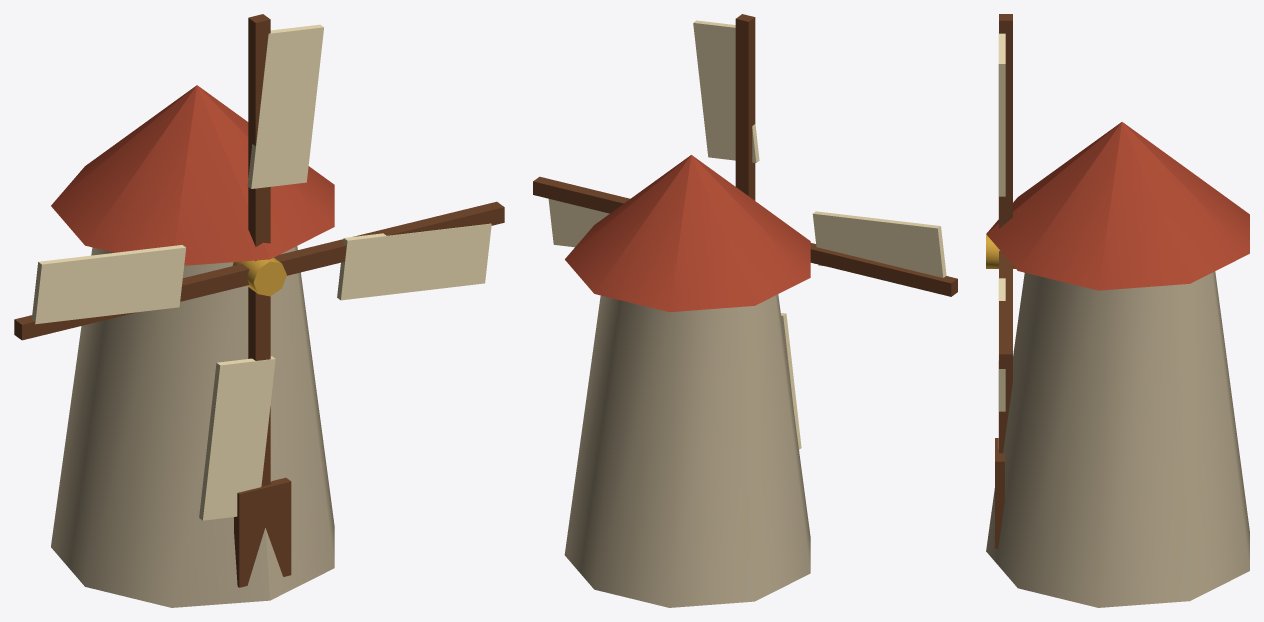
File: windmill_small.glb
The picture shows the model from 3 angles, left to right: view 1: azimuth 30°, elevation 25°; view 2: azimuth 150°, elevation 25°; view 3: azimuth 270°, elevation 25°; orthographic projection. The views are drawn at different scales.
Visible parts, largest first — view 1: windmill_small, rotor; view 2: windmill_small, rotor; view 3: windmill_small, rotor.
Part boxes in pixels (left/top/right/bottom): windmill_small: left=51, top=85, right=334, bottom=607; rotor: left=14, top=14, right=504, bottom=520; windmill_small: left=564, top=155, right=810, bottom=607; rotor: left=533, top=14, right=957, bottom=449; windmill_small: left=986, top=122, right=1249, bottom=607; rotor: left=986, top=14, right=1015, bottom=453.
Bounding box in the file's own units: 2.59 × 2.94 × 1.32.
